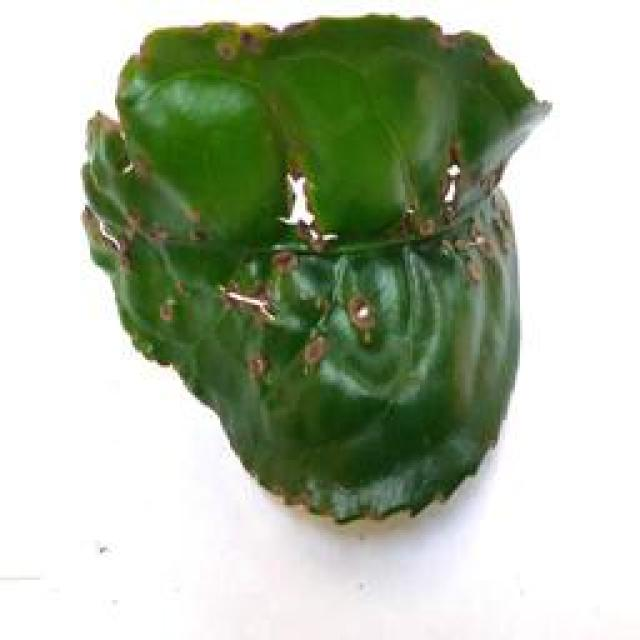Helopeltis: (74, 8, 548, 526)
